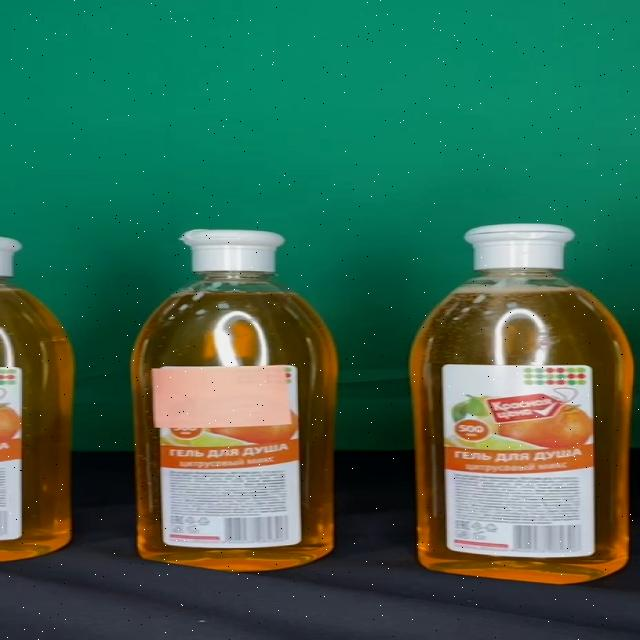Bottle: (407, 224, 634, 586), (130, 229, 339, 573)
Cap: (464, 224, 574, 268), (181, 229, 286, 273)
